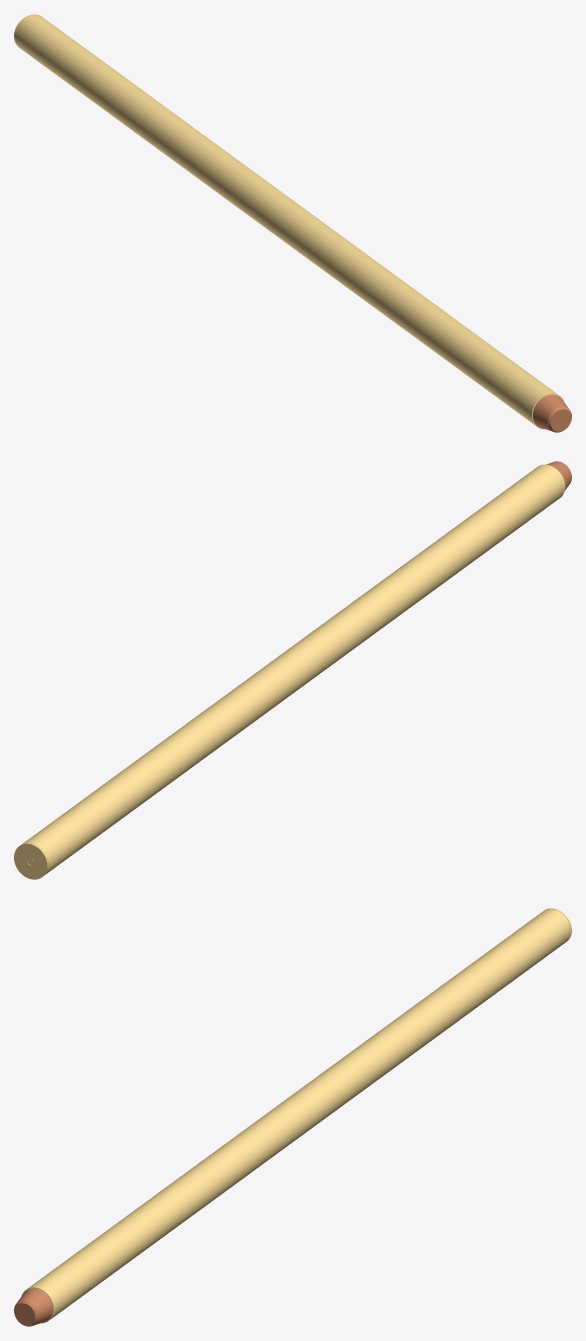
Rendered from Blender.glb.
The picture shows the model from 3 angles, top to bottom: view 1: azimuth 30°, elevation 25°; view 2: azimuth 150°, elevation 25°; view 3: azimuth 330°, elevation 25°; orthographic projection.
Visible parts, largest first — view 1: Cylinder (×2); view 2: Cylinder; view 3: Cylinder (×2).
Boxes of the visible parts, <box> form: Cylinder (×2): <box>14,14,571,432</box>; Cylinder: <box>14,464,565,879</box>; Cylinder (×2): <box>14,908,571,1326</box>.
Bounding box in the file's own units: 1.09 × 1.09 × 29.95.
Materials: 2 (2 with a texture image).
